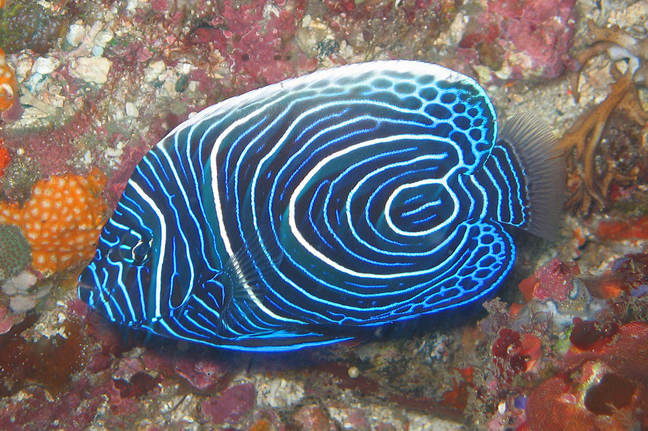Pomacanthus_imperator: (58, 44, 556, 365)
